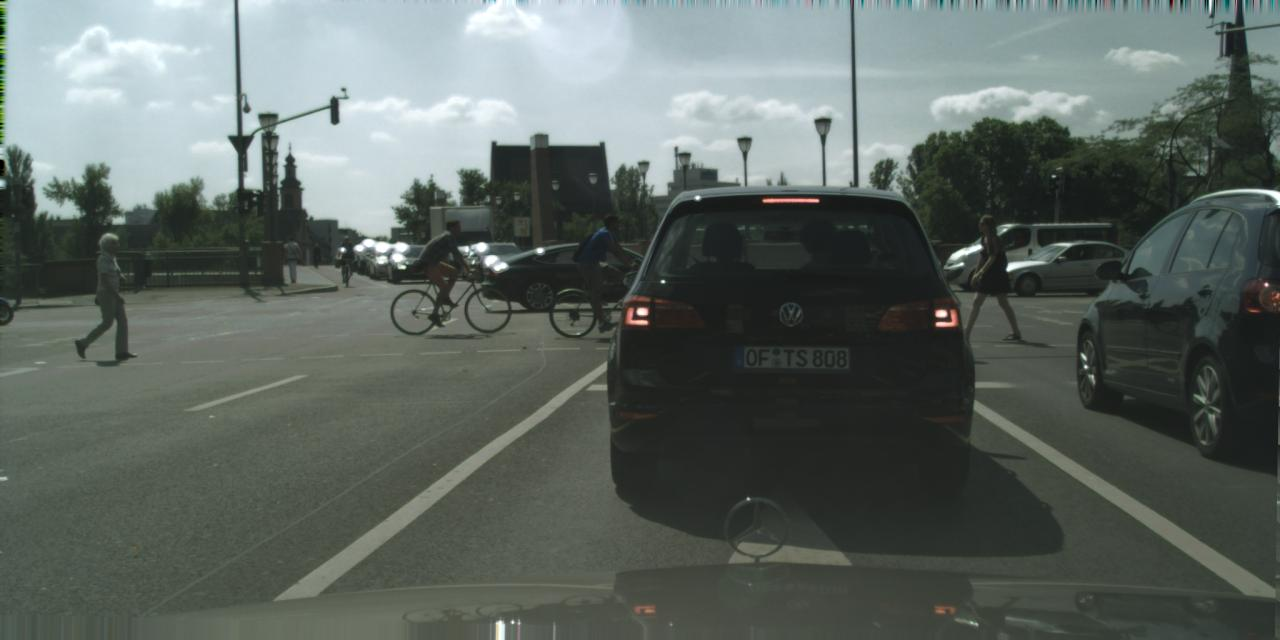ped: (78, 232, 130, 360), (960, 214, 1011, 340), (589, 213, 630, 314), (431, 220, 469, 312), (281, 236, 301, 283), (337, 236, 355, 278), (312, 242, 321, 264)
